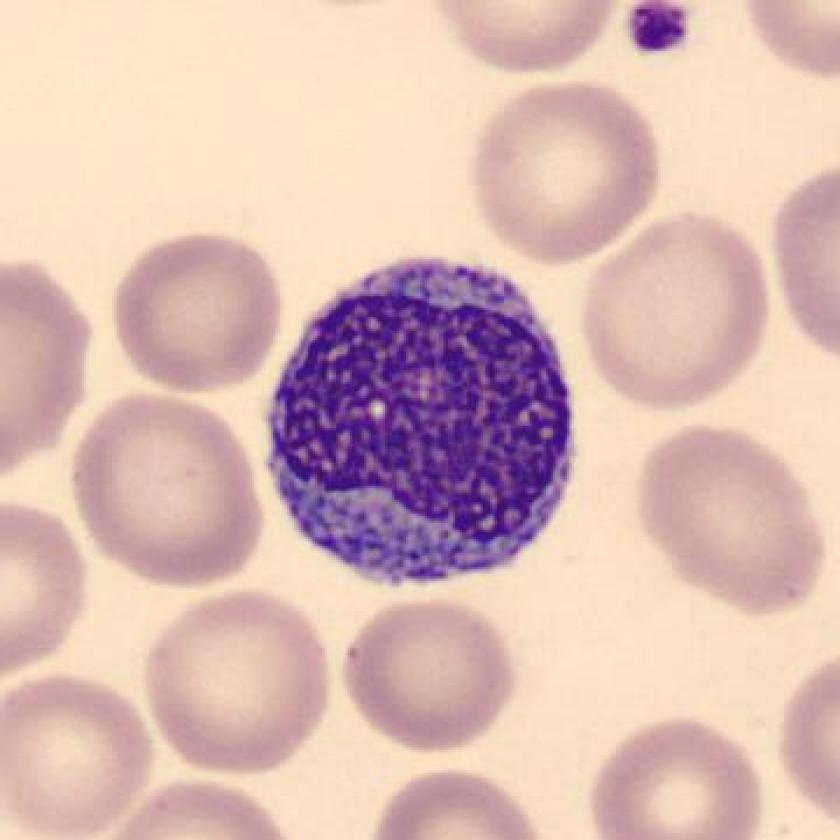monocyte: (251, 232, 605, 605)
